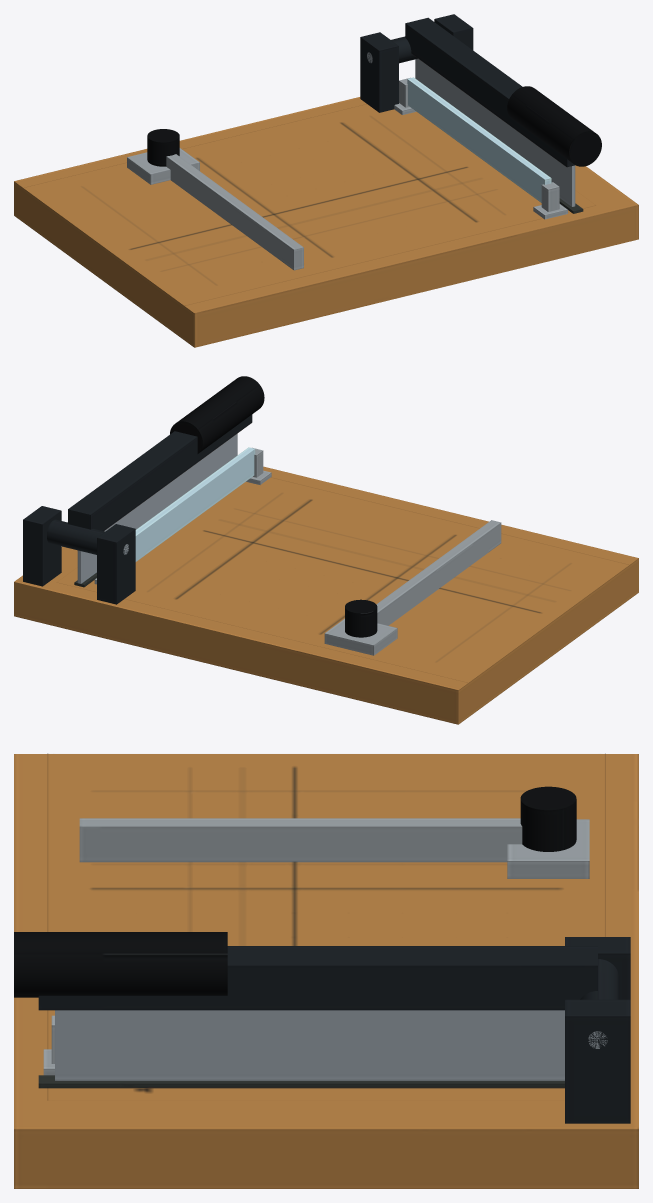
3 renders of one model, top to bottom at view 1: azimuth 30°, elevation 25°; view 2: azimuth 150°, elevation 25°; view 3: azimuth 270°, elevation 25°, orthographic. The views are drawn at different scales.
Bounding box in the file's own units: 0.54 × 0.145 × 0.38.
Materials: 1 (1 with a texture image).
